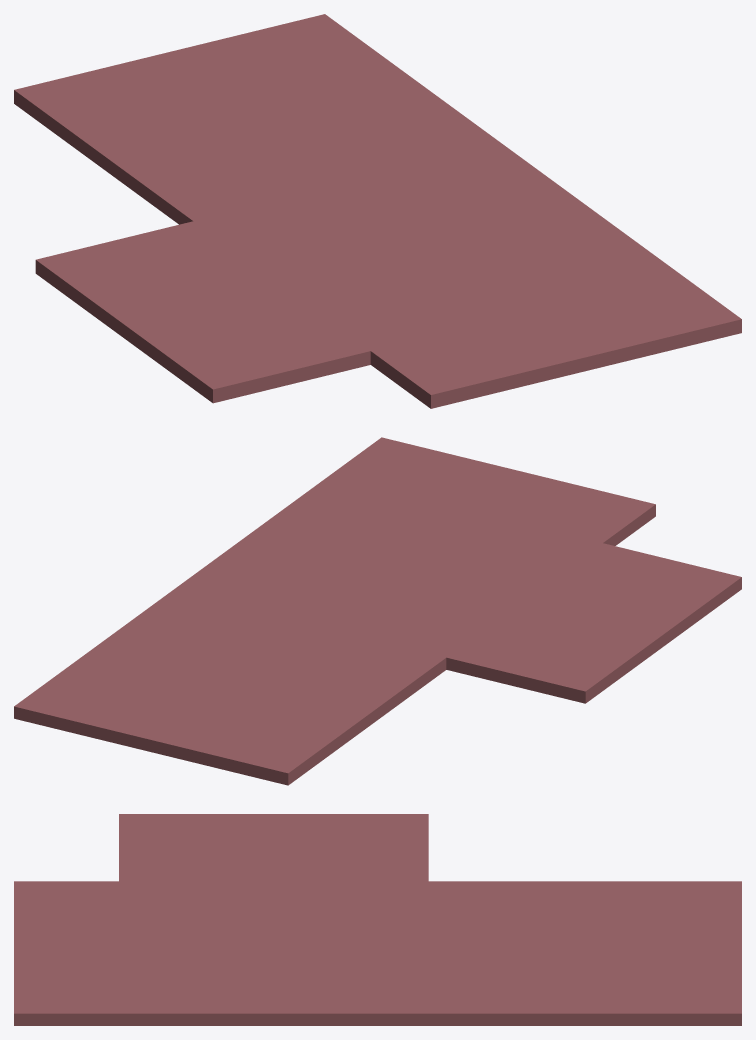
Rendered from Building4C.fbx.
3 views of the same model, one above another, from view 1: azimuth 30°, elevation 25°; view 2: azimuth 150°, elevation 25°; view 3: azimuth 270°, elevation 25° (orthographic). The views are drawn at different scales.
Visible parts, largest first — view 1: Plane; view 2: Plane; view 3: Plane.
Boxes of the visible parts, x1,y1,x2,y2 form: Plane: (14, 14, 741, 408); Plane: (14, 437, 741, 785); Plane: (14, 814, 741, 1025).
Bounding box in the file's own units: 266 × 7.5 × 409.
